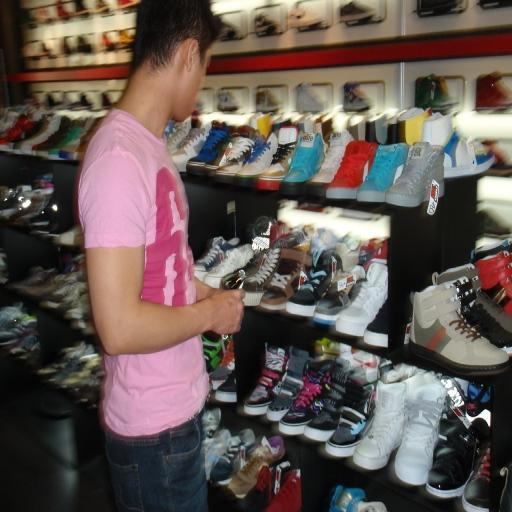shoe: (410, 282, 508, 374), (432, 263, 512, 354), (394, 374, 447, 486), (303, 357, 371, 442), (352, 381, 406, 470), (422, 112, 494, 178), (425, 424, 483, 499), (278, 360, 334, 436), (303, 358, 352, 442), (285, 246, 341, 317), (325, 378, 375, 457), (336, 262, 388, 336), (386, 142, 444, 208), (228, 435, 285, 498), (259, 248, 311, 312), (243, 344, 289, 416), (266, 346, 309, 422), (357, 142, 409, 202), (307, 130, 353, 197), (326, 140, 378, 199), (205, 128, 259, 184), (313, 267, 365, 325), (204, 125, 260, 177), (279, 133, 325, 195), (257, 125, 299, 191), (182, 122, 230, 176), (210, 428, 256, 484), (233, 132, 278, 188), (241, 246, 282, 306), (474, 250, 512, 313), (202, 243, 254, 289), (461, 442, 490, 512), (194, 237, 240, 281), (172, 127, 210, 173), (415, 73, 459, 112), (202, 428, 232, 480), (266, 469, 302, 512), (209, 334, 235, 390), (475, 71, 512, 110), (396, 108, 432, 146), (363, 299, 389, 347), (466, 381, 492, 427), (201, 331, 229, 373), (289, 4, 327, 32), (476, 209, 512, 238), (328, 484, 365, 512), (166, 118, 192, 154), (296, 82, 326, 112), (338, 0, 377, 23), (343, 82, 372, 112), (215, 369, 237, 403), (255, 12, 283, 37), (255, 88, 283, 113), (499, 462, 512, 512), (202, 407, 222, 439), (220, 18, 244, 42), (217, 89, 240, 113)
